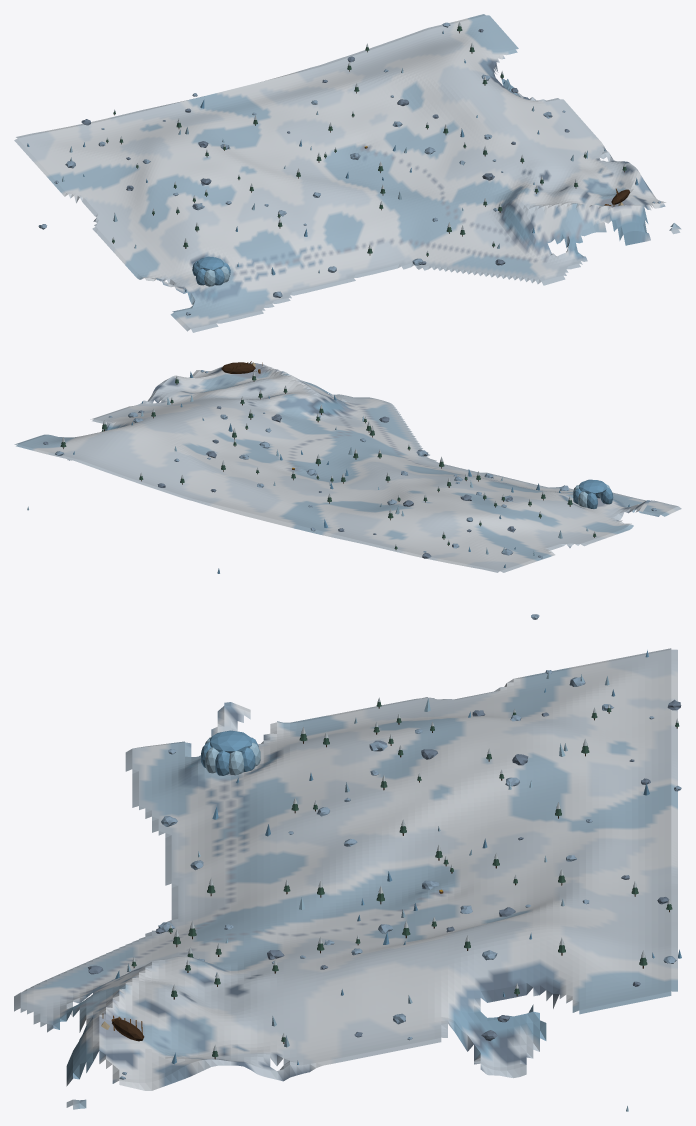
File: frost_isl_frozen_wreck.glb
3 renders of one model, top to bottom at view 1: azimuth 30°, elevation 25°; view 2: azimuth 150°, elevation 25°; view 3: azimuth 270°, elevation 25°, orthographic. The views are drawn at different scales.
Parts seen in each view (by area): view 1: geometry_0; view 2: geometry_0; view 3: geometry_0.
Boxes of the visible parts, bbox=[...] form: geometry_0: bbox=[14, 14, 681, 332]; geometry_0: bbox=[14, 361, 681, 619]; geometry_0: bbox=[14, 648, 681, 1111].
Bounding box in the file's own units: 263 × 46.52 × 203.
